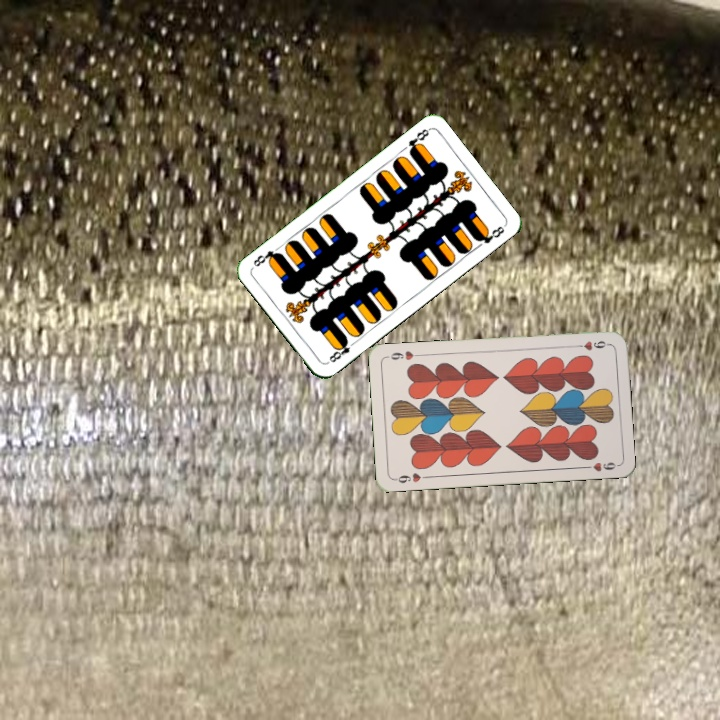E8: (325, 335, 358, 365), (404, 125, 432, 157)
H9: (390, 469, 431, 486), (571, 337, 612, 353)
